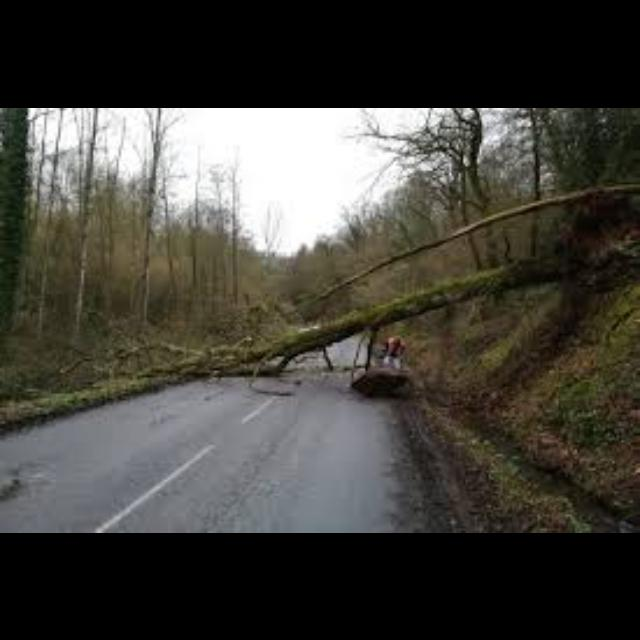Fallen Tree: (230, 227, 638, 381), (340, 182, 640, 254)
